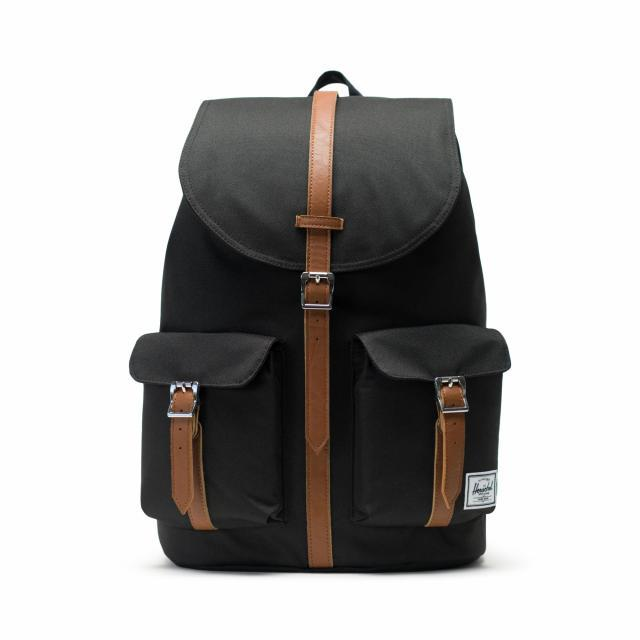Backpacks: (126, 64, 512, 581)
